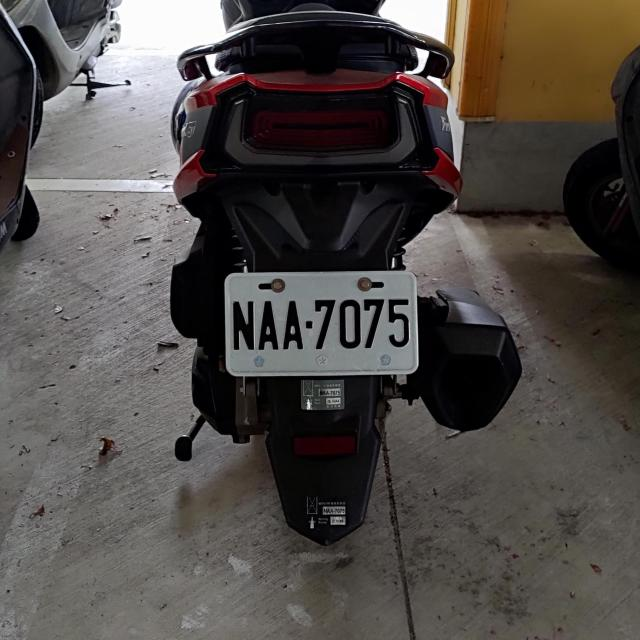W: (223, 269, 418, 375)
